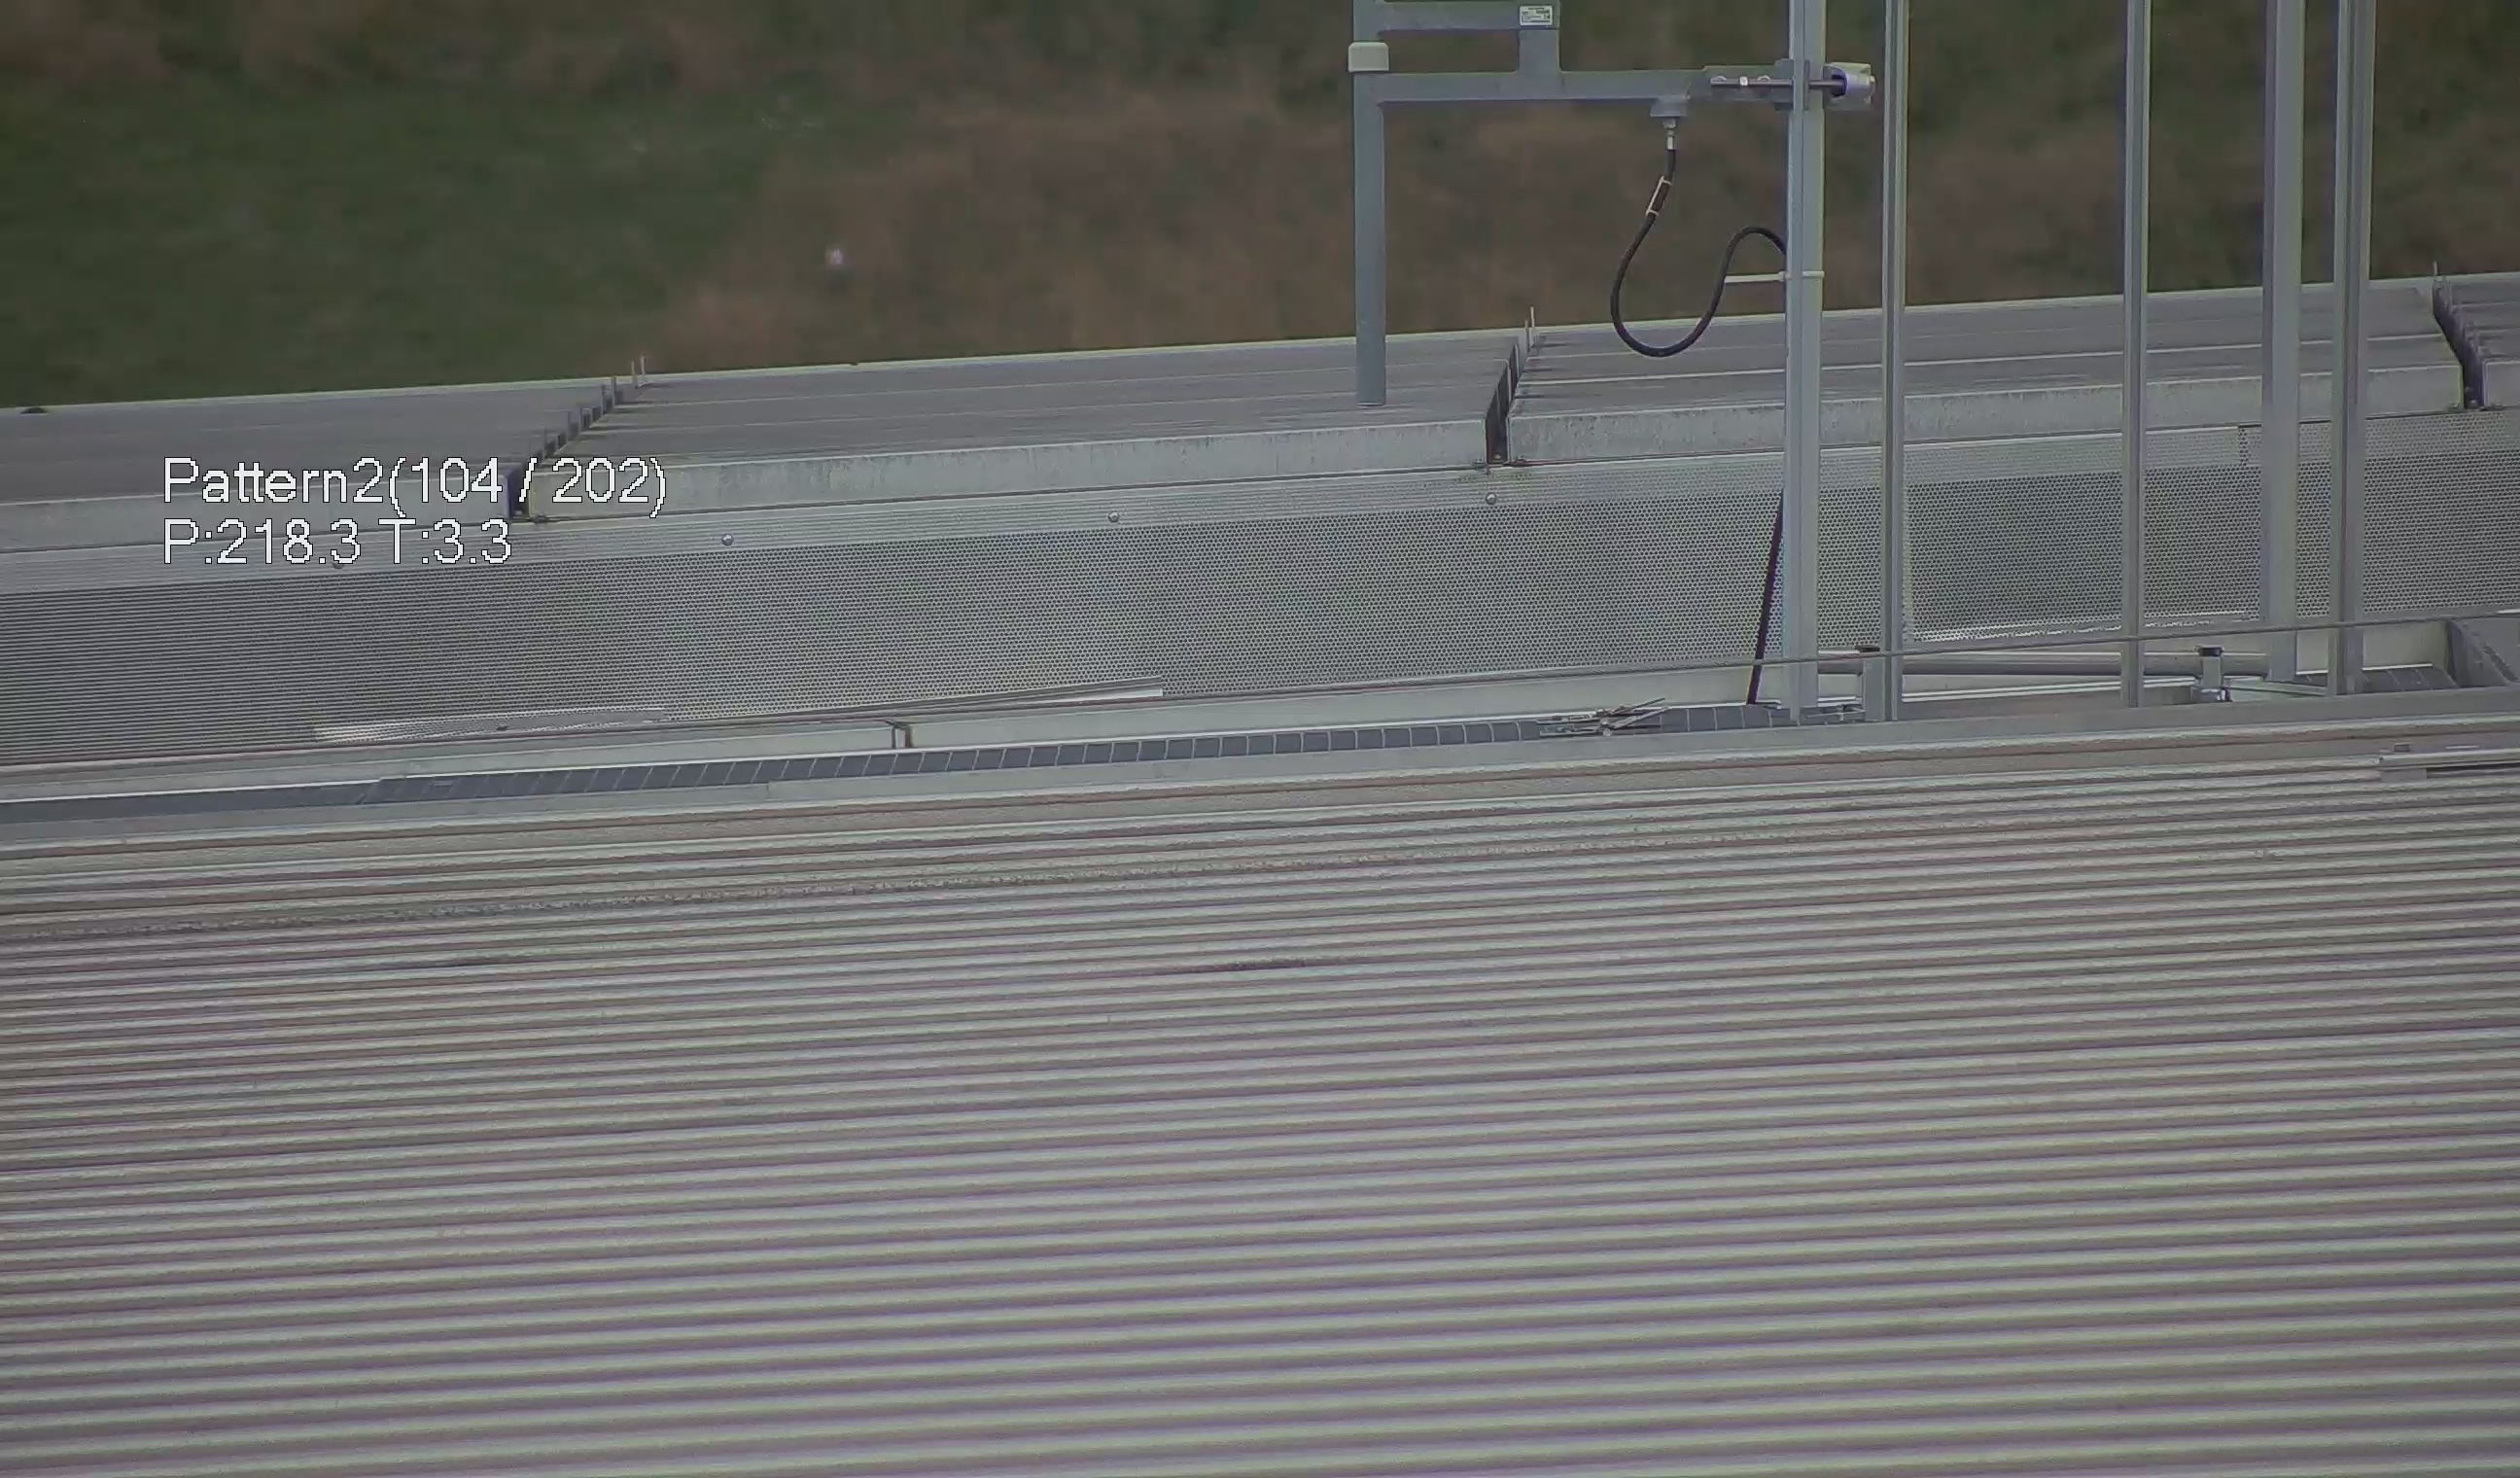Other: (2423, 262, 2513, 421)
